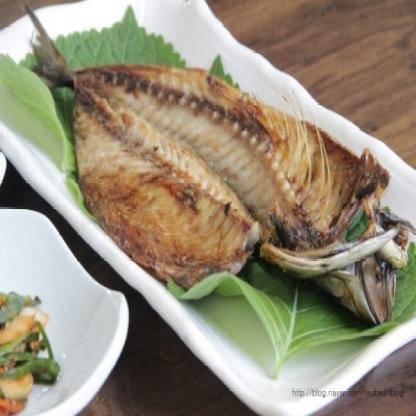Peixe: (18, 0, 410, 348)
